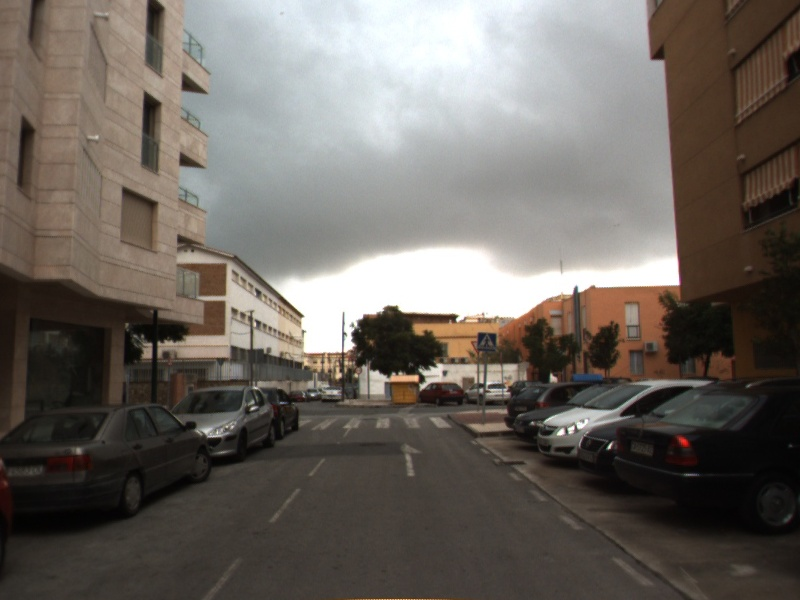STRAIGHT: (398, 441, 427, 479)
